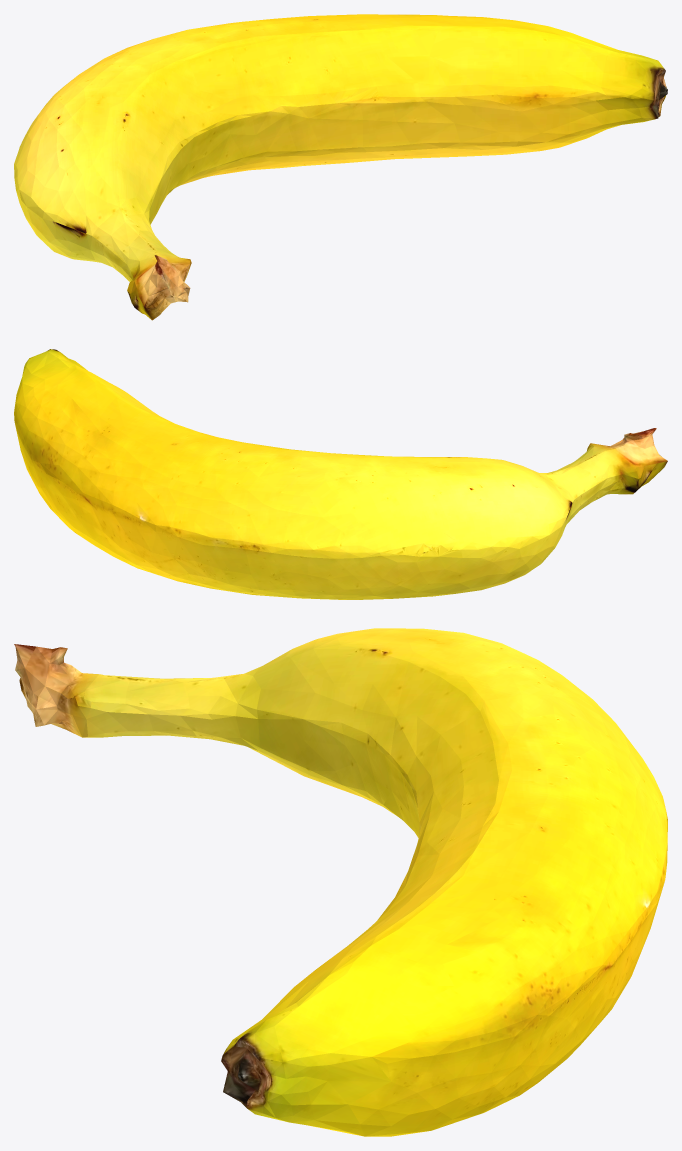
The model's file is bananaFinal-v1-transformed.glb.
3 renders of one model, top to bottom at view 1: azimuth 30°, elevation 25°; view 2: azimuth 150°, elevation 25°; view 3: azimuth 270°, elevation 25°, orthographic. The views are drawn at different scales.
Parts seen in each view (by area): view 1: banana; view 2: banana; view 3: banana.
Boxes of the visible parts, left/top/right/bottom form: banana: left=14, top=14, right=667, bottom=320; banana: left=14, top=349, right=667, bottom=599; banana: left=14, top=628, right=667, bottom=1136.
Bounding box in the file's own units: 6.79 × 1.62 × 4.44.
1 material, 1 textured.
